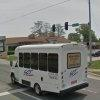Bus: (9, 44, 89, 95)
